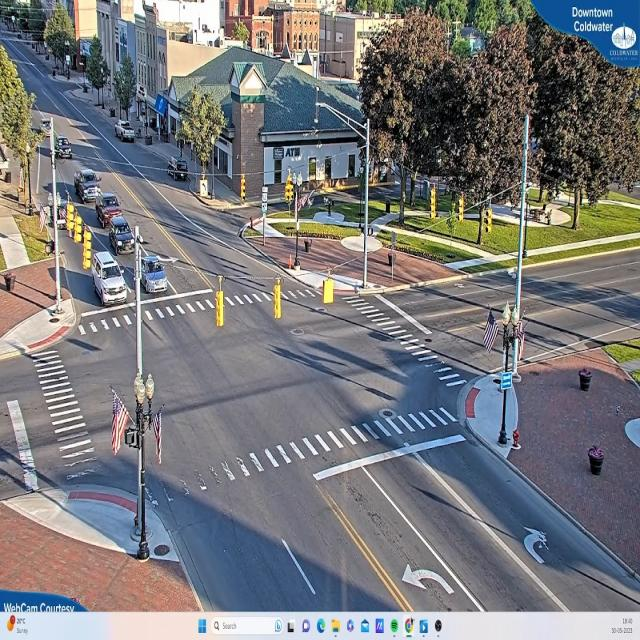car: (94, 253, 124, 306), (140, 254, 171, 297), (110, 218, 134, 254), (75, 173, 101, 204), (586, 442, 605, 476), (116, 123, 136, 143), (55, 136, 70, 158)
